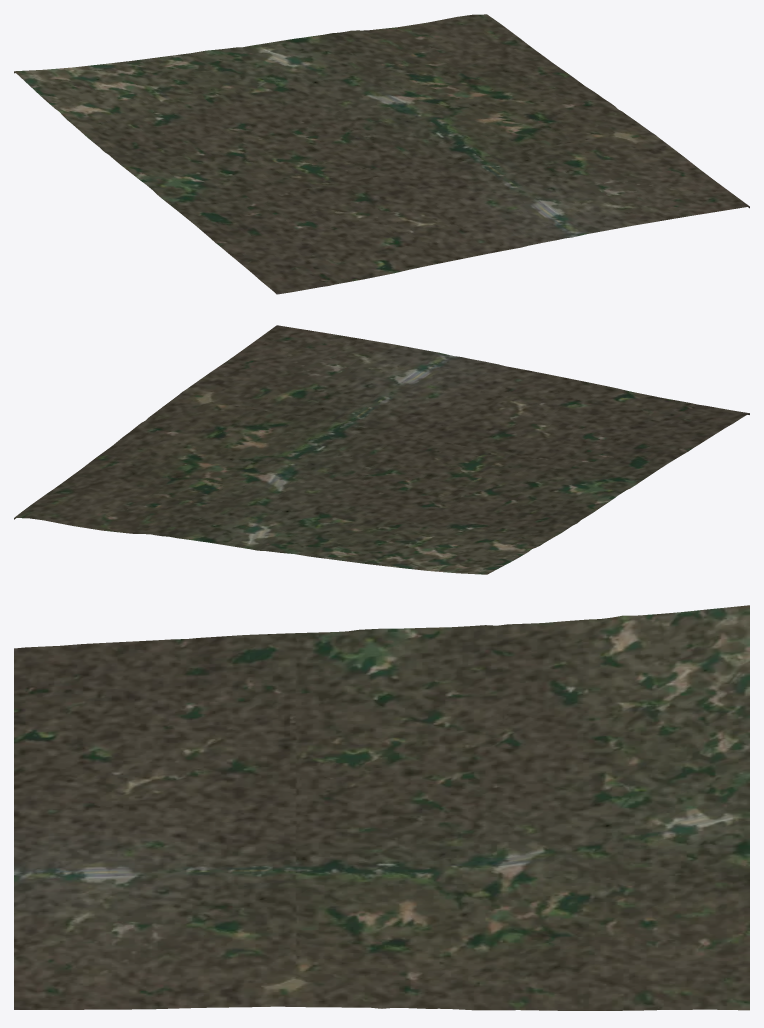
The picture shows the model from 3 angles, top to bottom: view 1: azimuth 30°, elevation 25°; view 2: azimuth 150°, elevation 25°; view 3: azimuth 270°, elevation 25°; orthographic projection. The views are drawn at different scales.
Size of the model in its own units: 250 by 30.79 by 241.
Materials: 1 (1 with a texture image).
